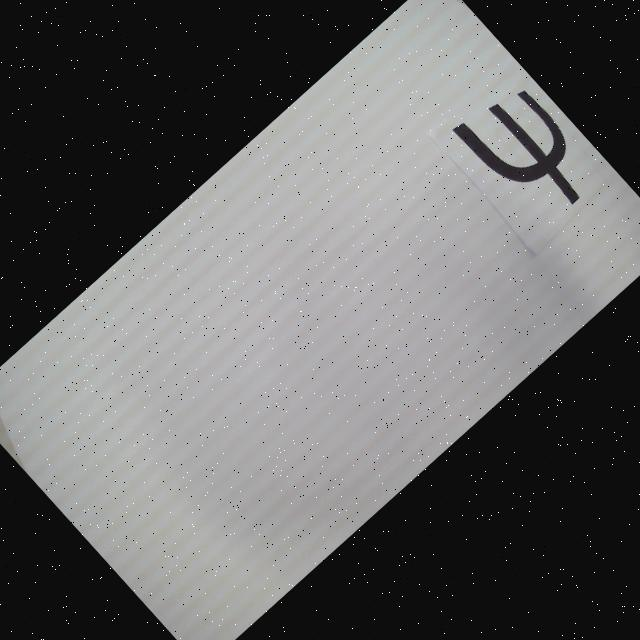PSI: (452, 74, 606, 232)
